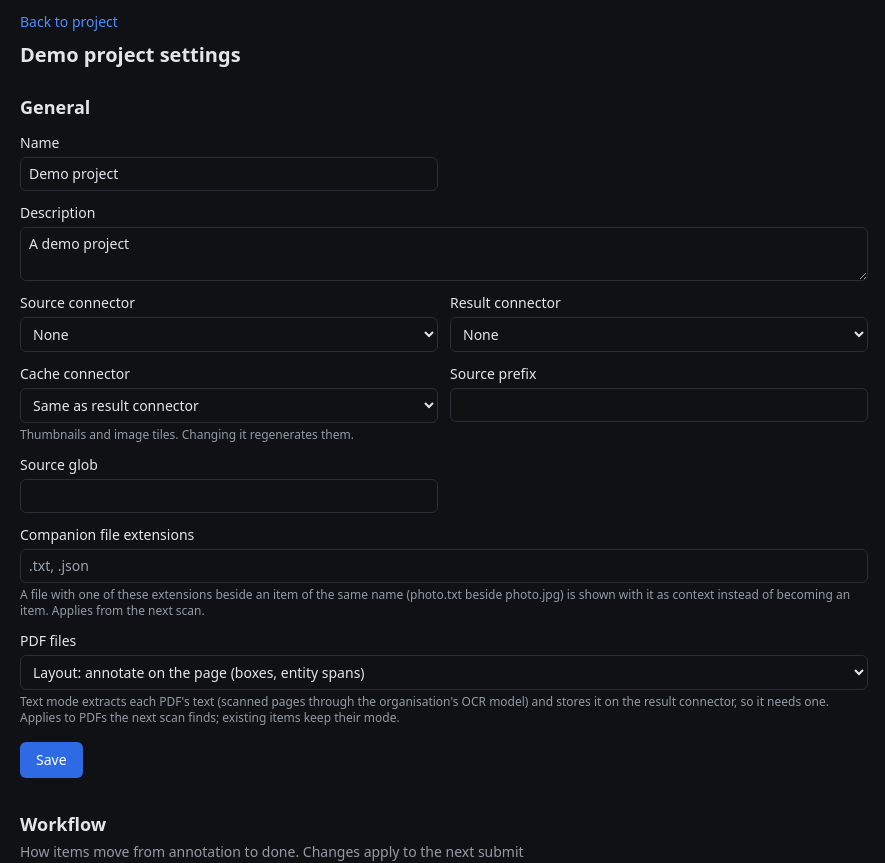
Test: ProjectSettingsPage › submits a PATCH with the edited general fields
Replace the text in the field labelled "Name" with "Renamed project" at (229, 174), box [20,157,438,191]
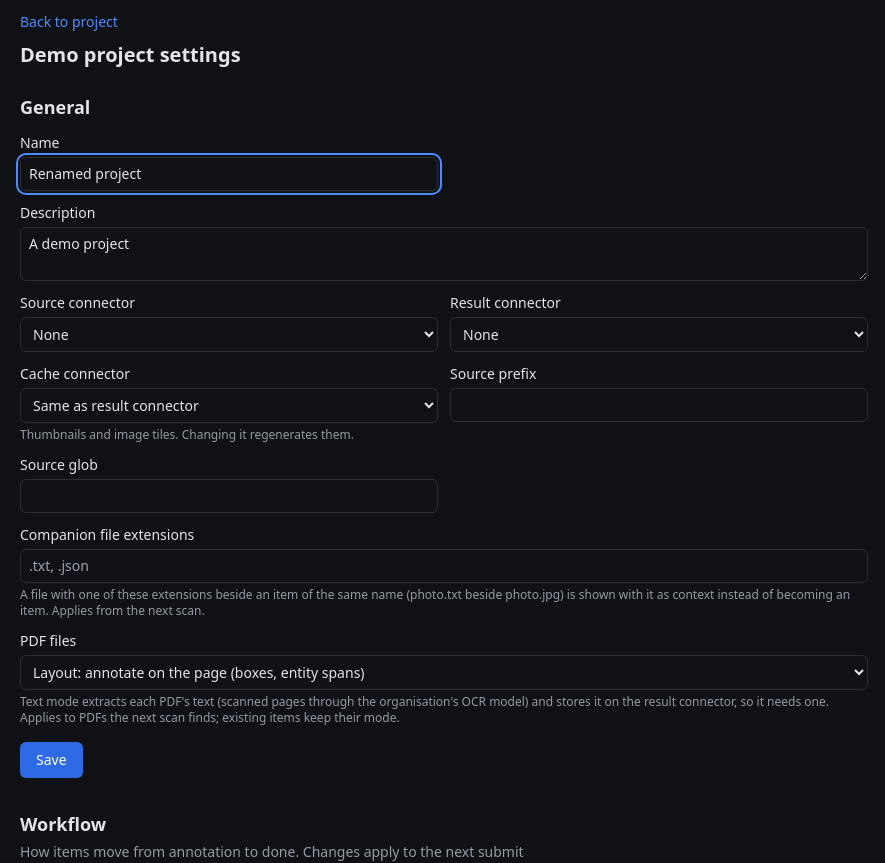
Click the button "Save" at (51, 760), box [20,742,83,778]
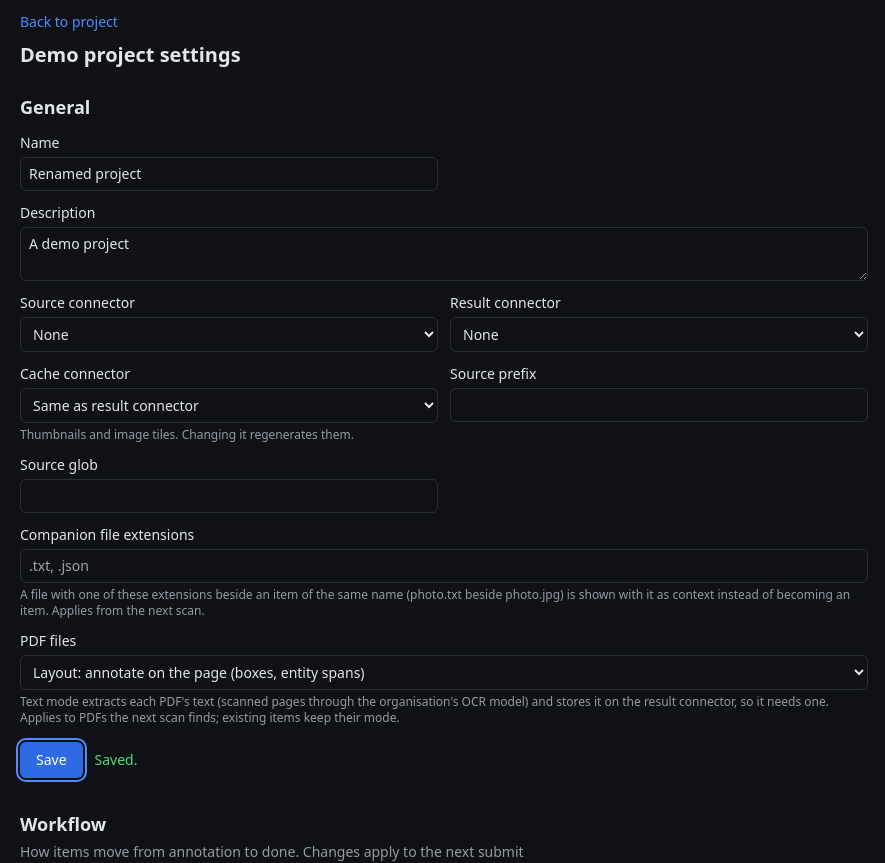
Expected: the text "Saved." is shown, [95,750,138,770]
